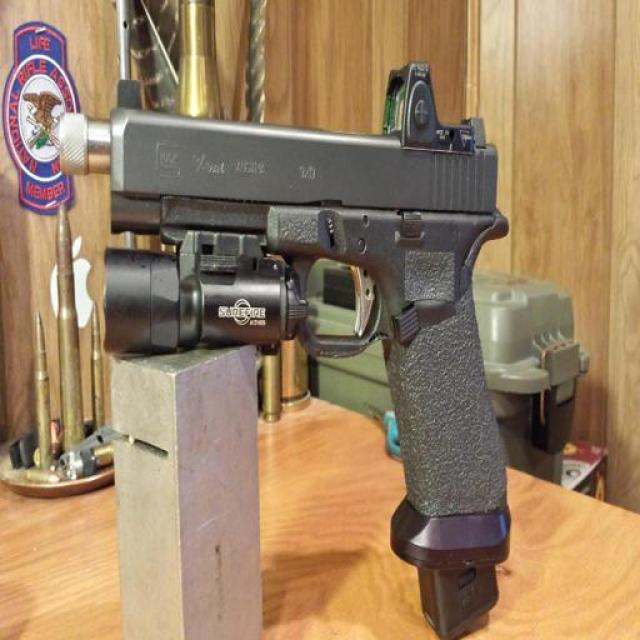pistol: (106, 50, 510, 626)
